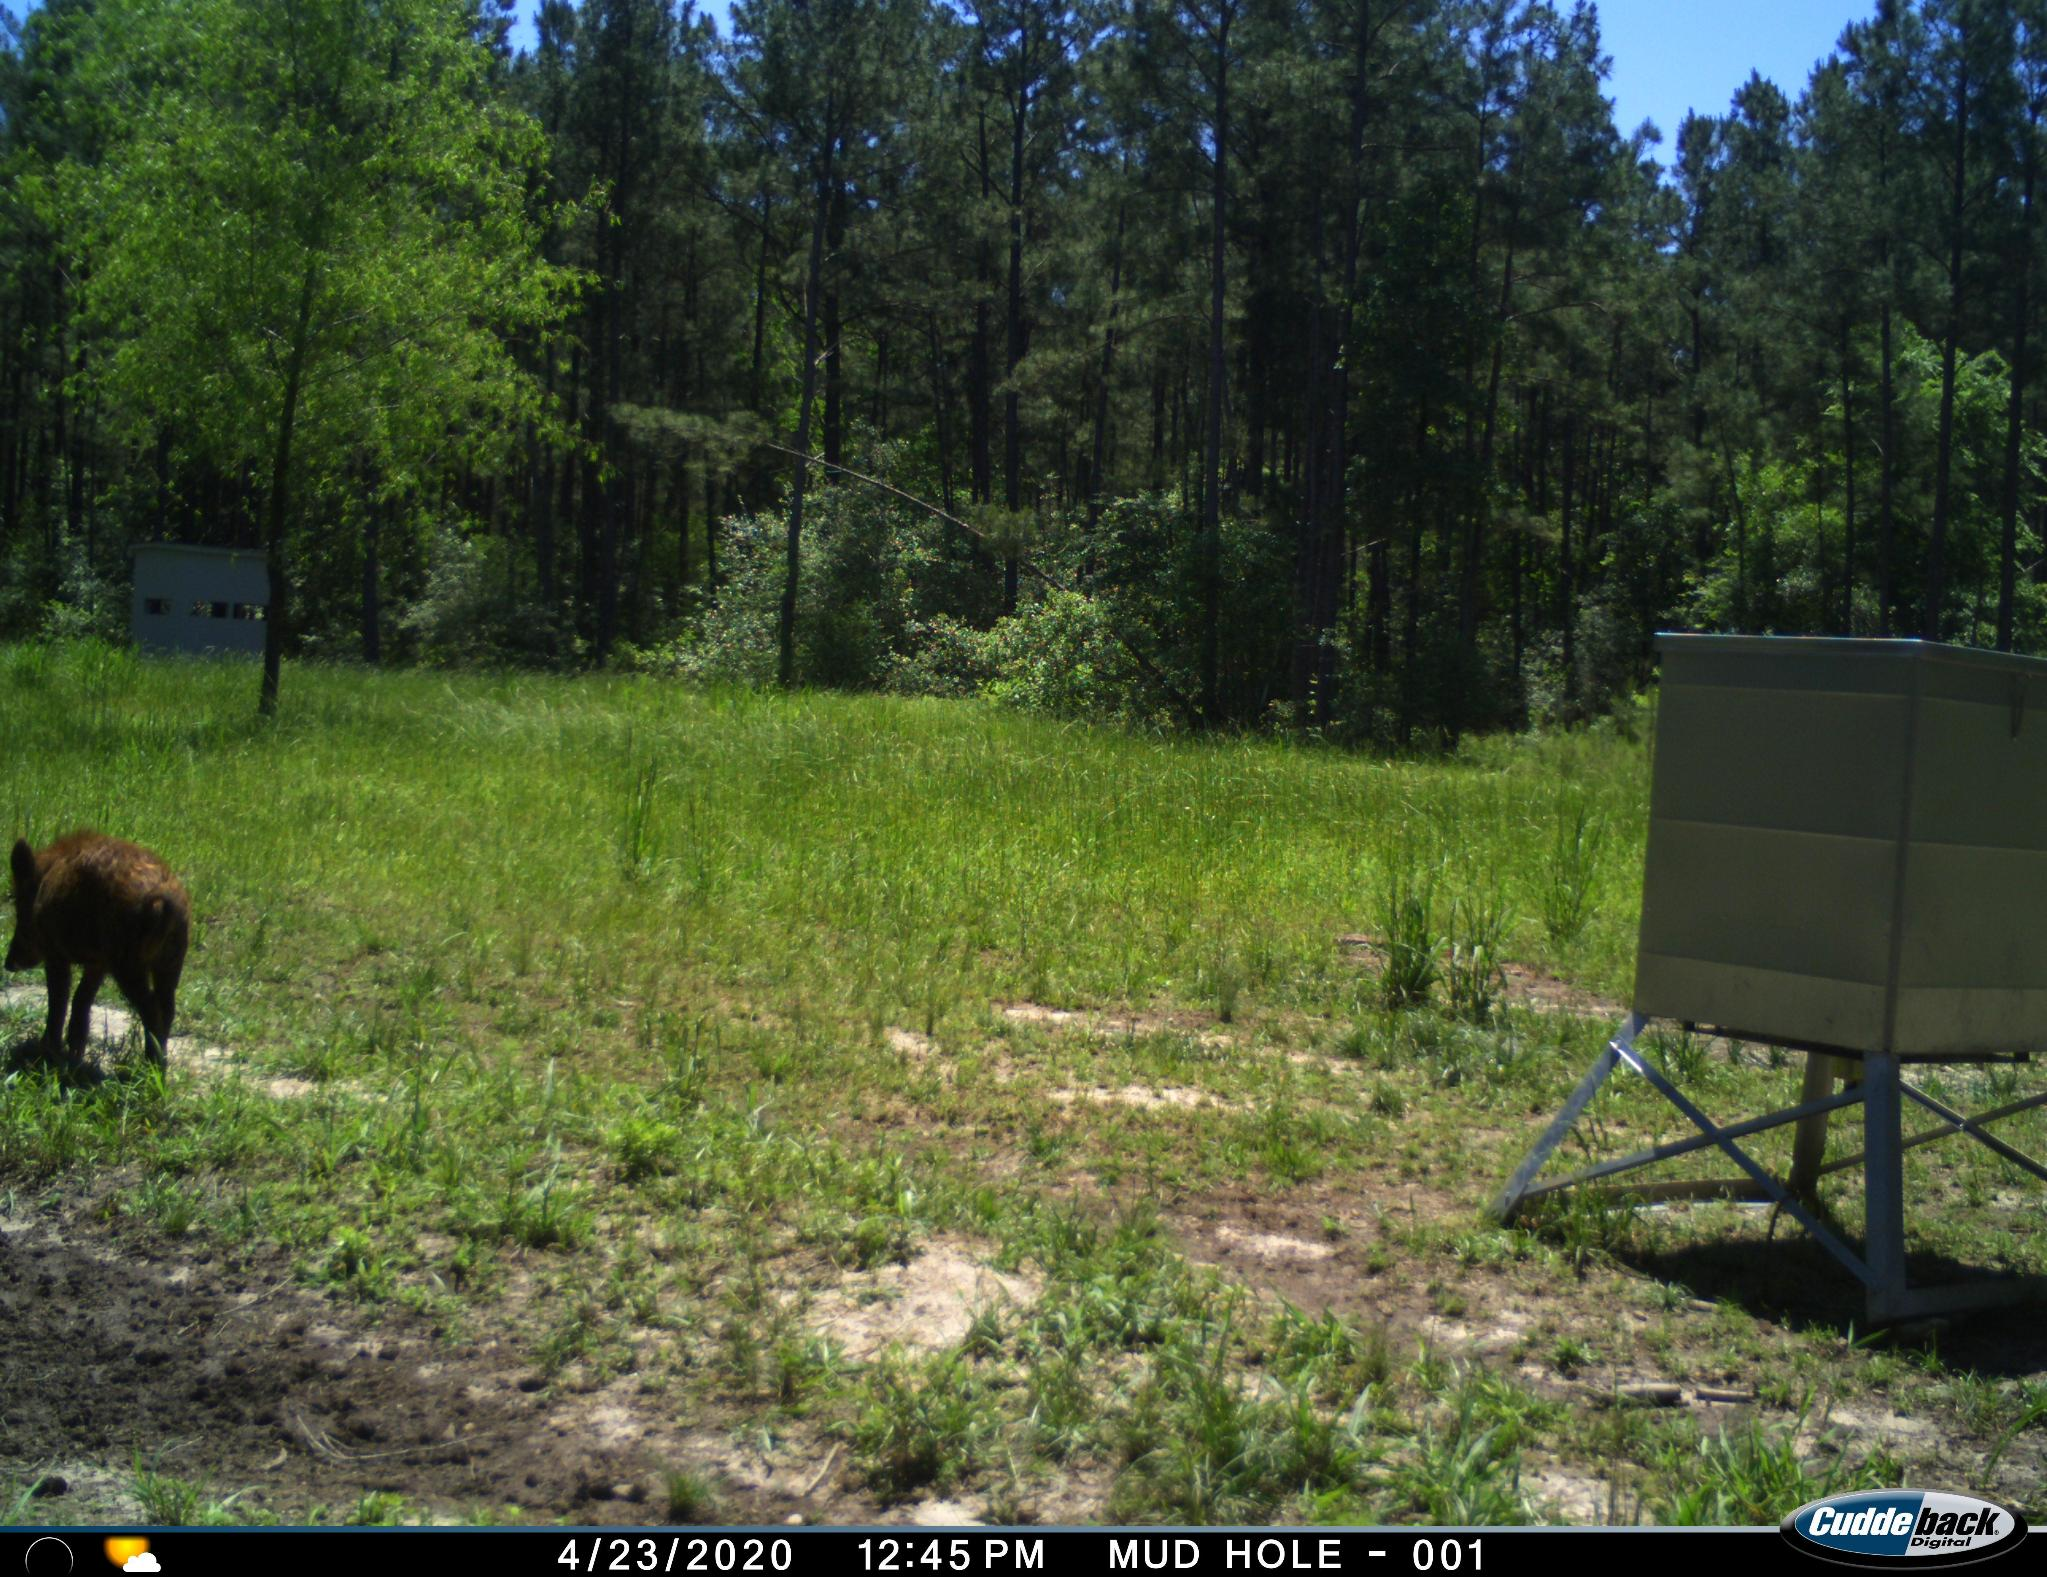Hog: (5, 822, 207, 1067)
